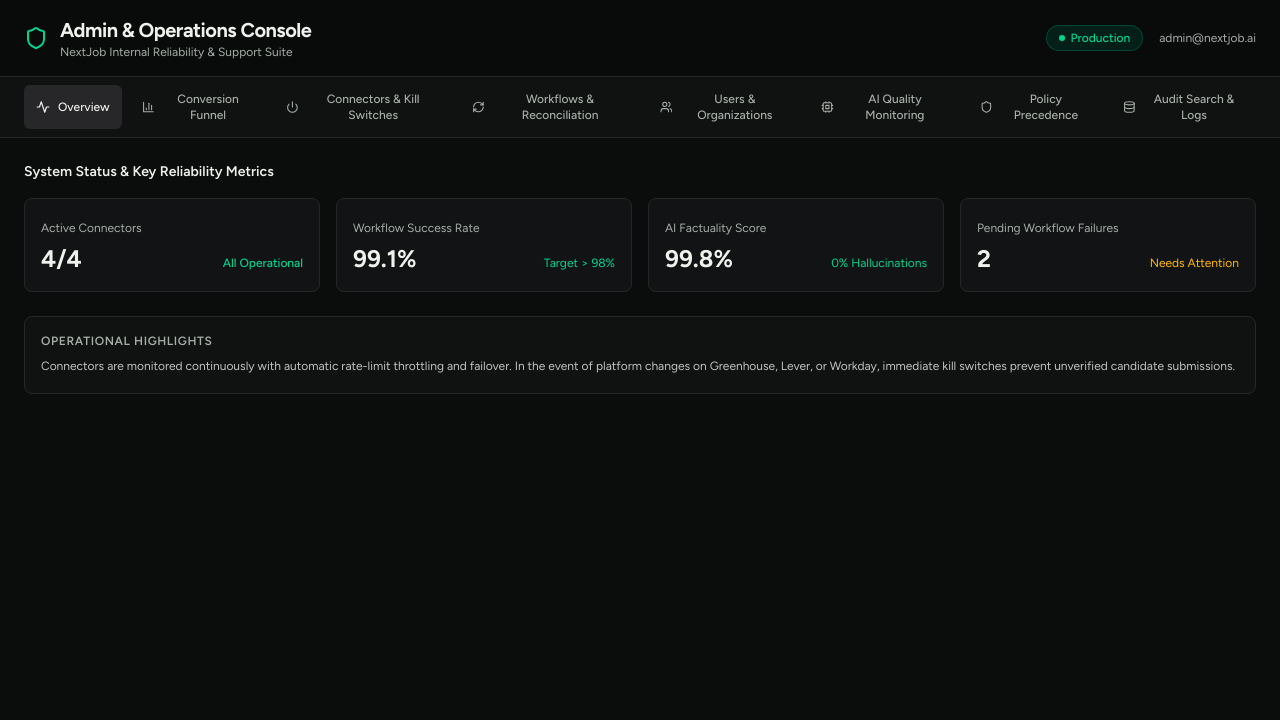
Scenario: AdminConsolePage (T-33, Admin & Operations Console) › displays AI Quality metrics and policy precedence hierarchy
The image size is (1280, 720).
# Click AI Quality tab
Click the button "AI Quality Monitoring" at (884, 107), box [809, 85, 960, 129]
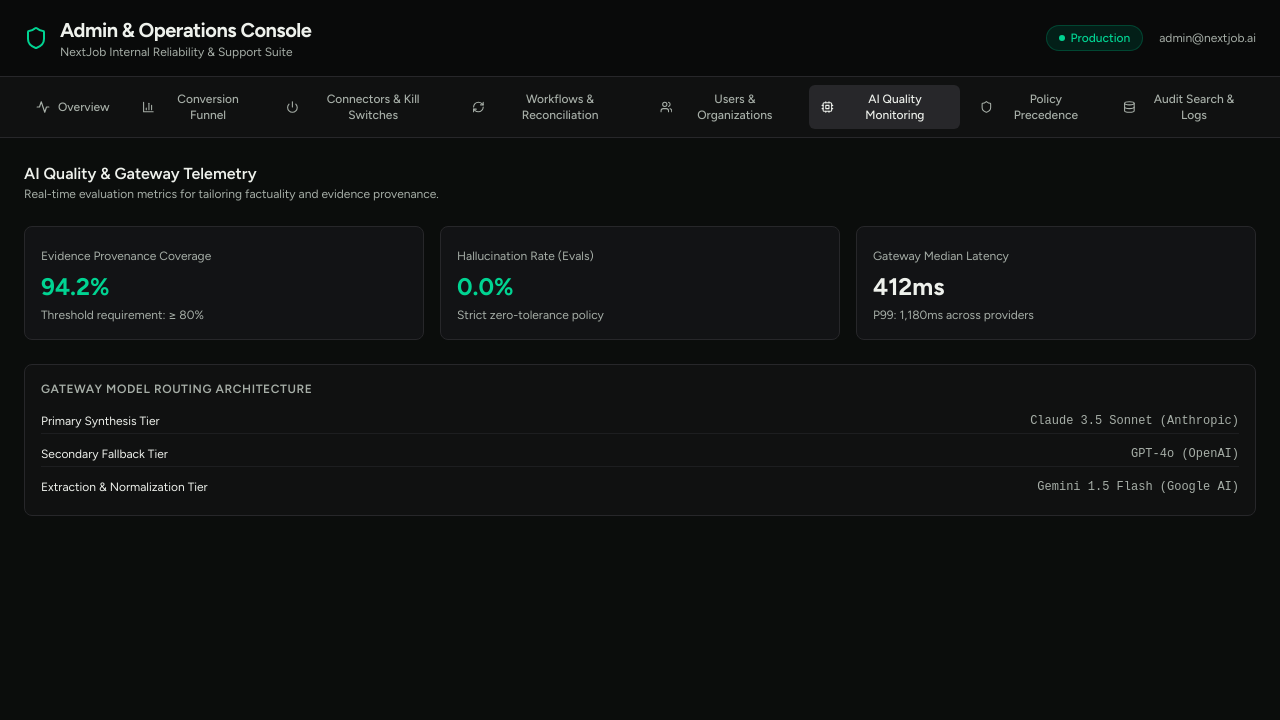
Expected: the heading "AI Quality & Gateway Telemetry" is shown, [24, 164, 256, 183]
Expected: the text "94.2%" is shown, [41, 272, 110, 301]
Expected: the text "0.0%" is shown, [457, 272, 514, 301]
# Click Policy Precedence tab
Click the button "Policy Precedence" at (1036, 107), box [968, 85, 1103, 129]
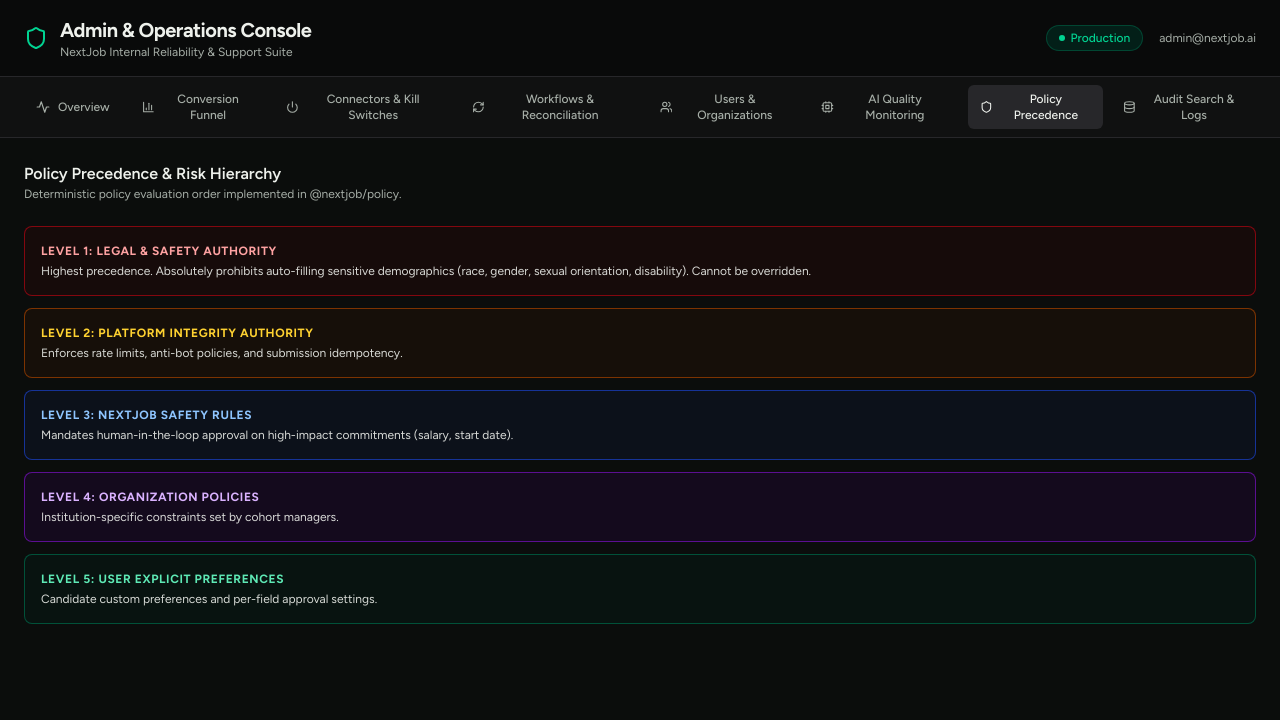
Expected: the heading "Policy Precedence & Risk Hierarchy" is shown, [24, 164, 281, 183]
Expected: the heading "Level 1: Legal & Safety Authority" is shown, [41, 244, 277, 258]
Expected: the heading "Level 5: User Explicit Preferences" is shown, [41, 572, 284, 586]
